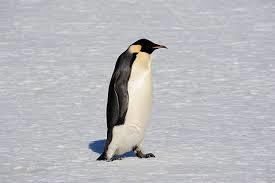emporer: (93, 34, 174, 169)
